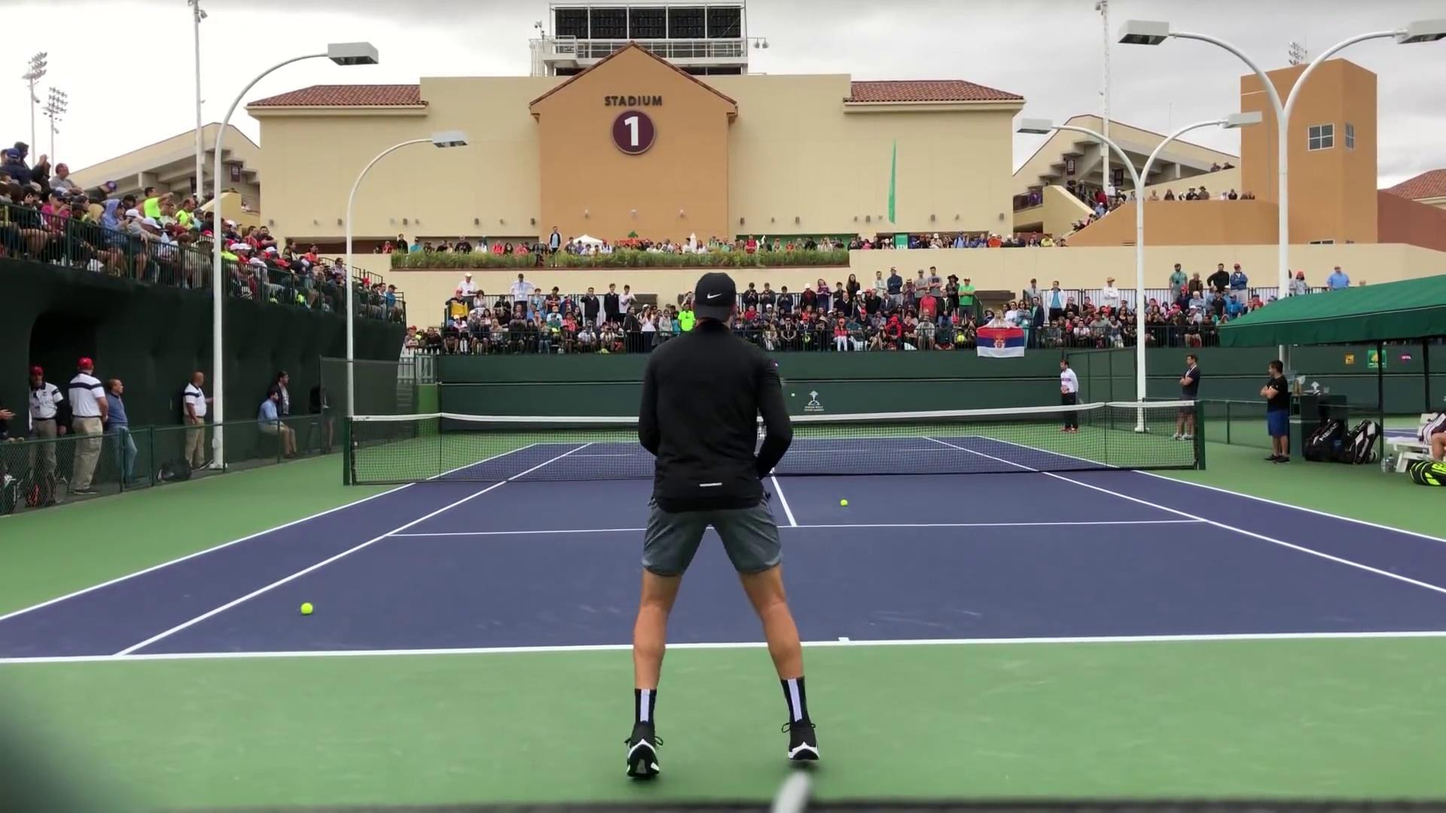ball: (299, 601, 313, 615), (839, 498, 847, 506), (790, 391, 796, 398)
